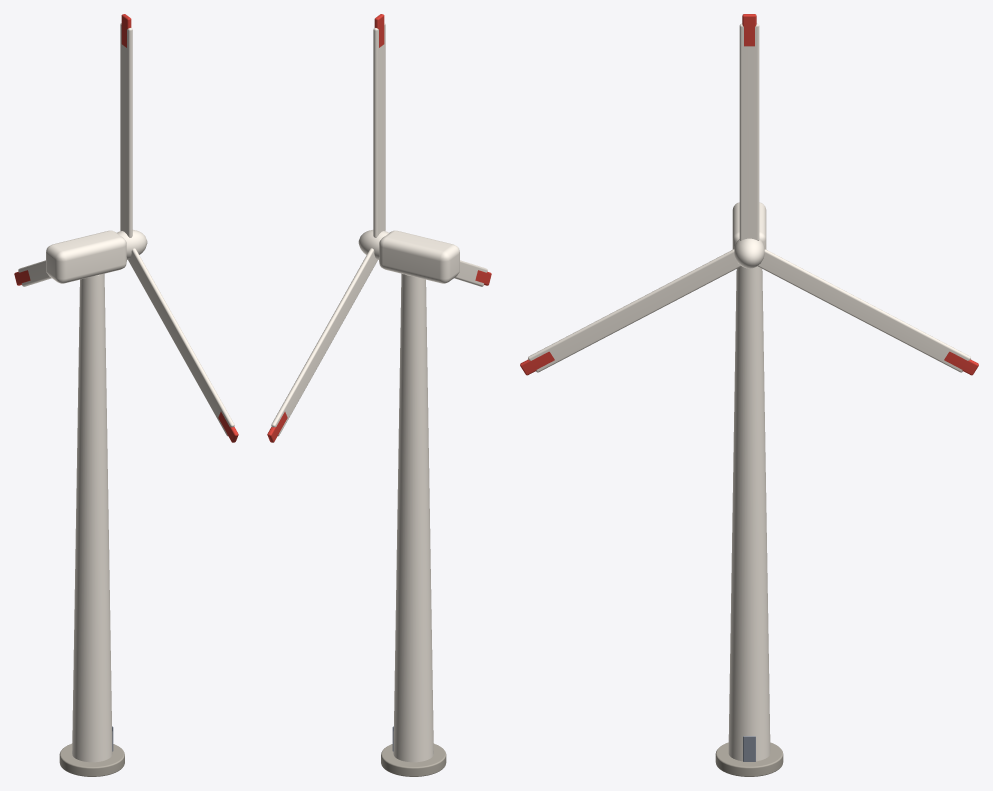
Rendered from wind_turbine.glb.
3 views of the same model, side by side, from view 1: azimuth 30°, elevation 25°; view 2: azimuth 150°, elevation 25°; view 3: azimuth 270°, elevation 25° (orthographic). The views are drawn at different scales.
Visible parts, largest first — view 1: wind_turbine, rotor.001; view 2: wind_turbine, rotor.001; view 3: wind_turbine, rotor.001.
Boxes of the visible parts, <box> form: wind_turbine: <box>46,230,126,776</box>; rotor.001: <box>14,14,238,442</box>; wind_turbine: <box>379,230,459,776</box>; rotor.001: <box>267,14,491,442</box>; wind_turbine: <box>715,202,783,776</box>; rotor.001: <box>520,14,978,375</box>.
Size of the model in its own units: 8.03 by 59.95 by 32.54.
Materials: 1 (1 with a texture image).
